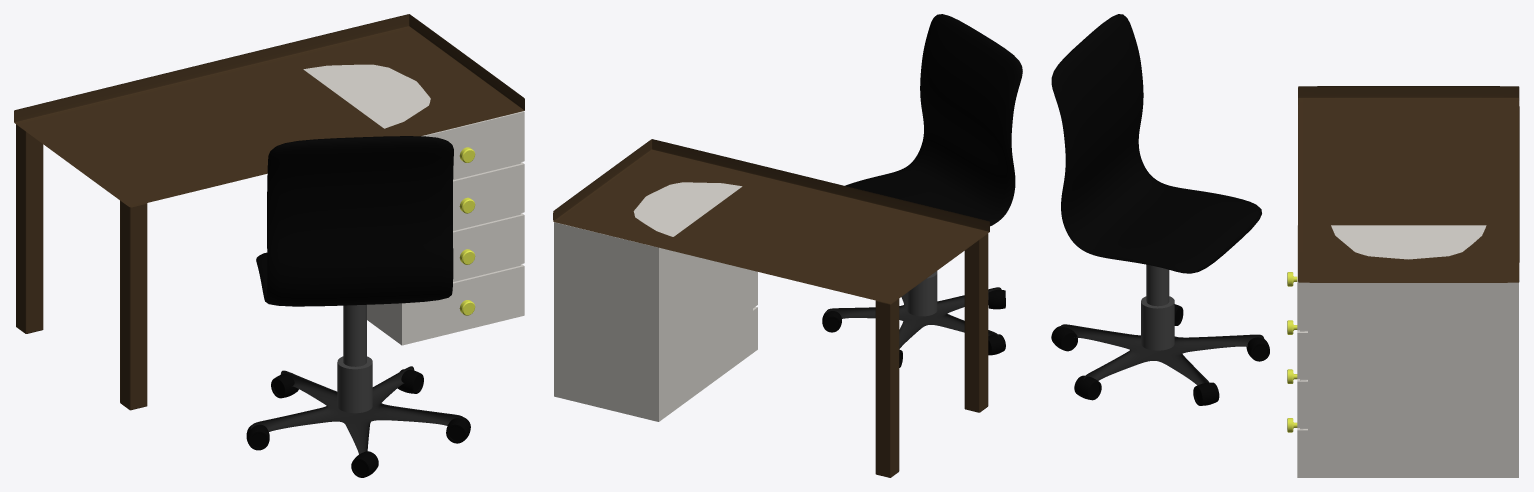
File: Escritorio.fbx
3 views of the same model, side by side, from view 1: azimuth 30°, elevation 25°; view 2: azimuth 150°, elevation 25°; view 3: azimuth 270°, elevation 25° (orthographic). The views are drawn at different scales.
Parts seen in each view (by area): view 1: Cube, Cube.006, Cube.001, Cube.004, Cube.005, Circle, Cylinder.001, Cylinder, Cylinder.006; view 2: Cube.001, Cube, Cube.006, Cube.005, Cube.004, Circle, Cylinder.001; view 3: Cube.001, Cube, Cube.006, Circle, Cylinder.001, Cylinder.002, Cylinder.003, Cylinder.006, Cylinder.
Part boxes in pixels (x1,y1,x2,y2): Cube: [14, 14, 524, 206]; Cube.006: [256, 136, 453, 306]; Cube.001: [303, 64, 524, 345]; Cube.004: [120, 200, 147, 410]; Cube.005: [16, 124, 43, 333]; Circle: [250, 366, 465, 454]; Cylinder.001: [337, 304, 372, 413]; Cylinder: [459, 147, 475, 315]; Cylinder.006: [351, 451, 378, 477]; Cube.001: [554, 182, 757, 421]; Cube: [553, 139, 989, 303]; Cube.006: [845, 14, 1022, 226]; Cube.005: [875, 299, 899, 477]; Cube.004: [964, 233, 988, 412]; Circle: [825, 287, 1001, 348]; Cylinder.001: [907, 271, 937, 316]; Cube.001: [1297, 225, 1518, 477]; Cube: [1298, 86, 1519, 282]; Cube.006: [1051, 14, 1261, 273]; Circle: [1060, 324, 1264, 385]; Cylinder.001: [1141, 264, 1174, 350]; Cylinder.002: [1074, 375, 1101, 400]; Cylinder.003: [1193, 382, 1219, 405]; Cylinder.006: [1051, 326, 1077, 351]; Cylinder: [1287, 272, 1297, 432].
Size of the model in its own units: 190 by 150 by 203.
